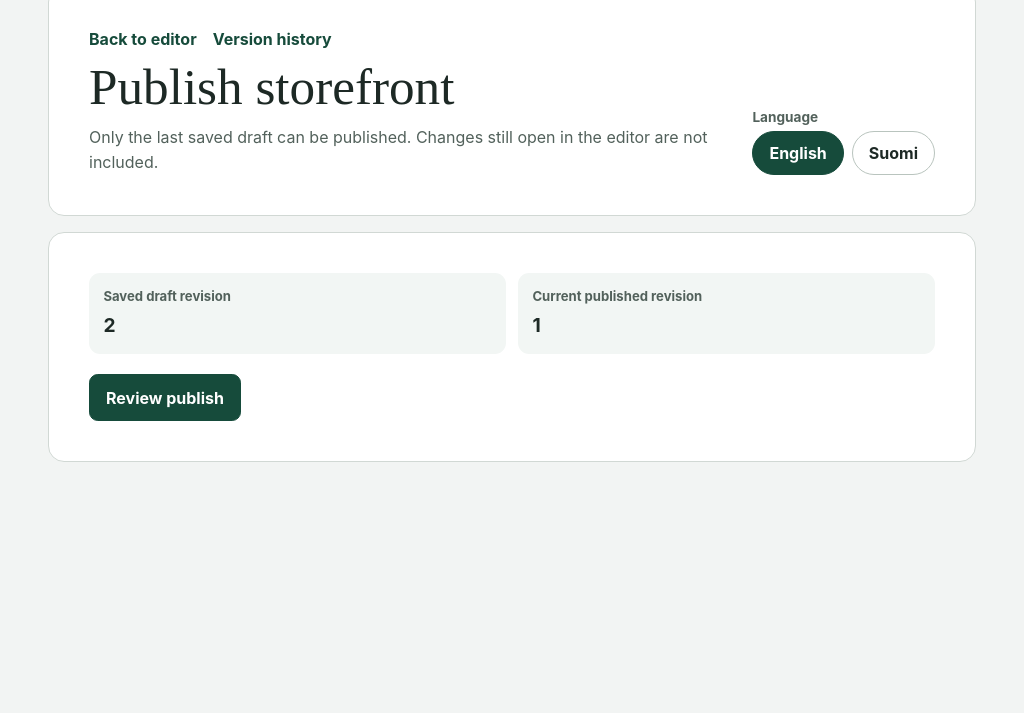
Test case: P2-12 publish confirmation route › publishes the exact reviewed saved draft and exposes success links
This screenshot has width=1024, height=713.
What coordinates should you click on to do the following:
click the button "Review publish"
I would click on:
 (165, 398)
Its box is [89,374,241,421].
(page scrolled)
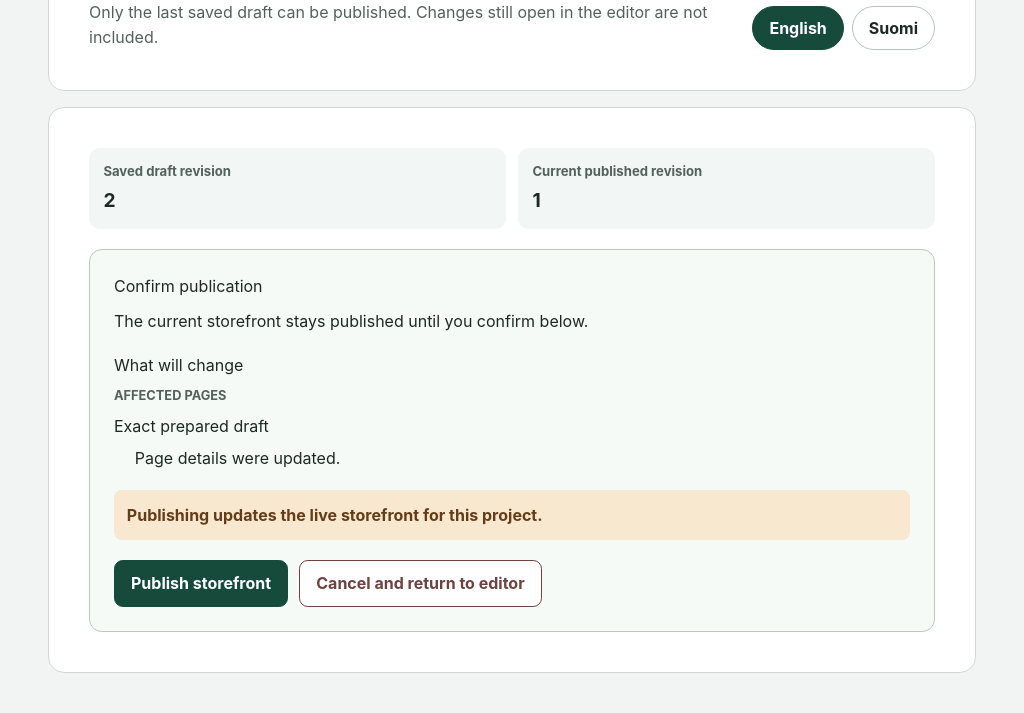
Now the heading "Confirm publication" is shown, box [114,276,263,296]
What coordinates should you click on to do the following:
click the button "Publish storefront"
I would click on:
 (201, 583)
Its box is [114,560,288,607].
(page scrolled)
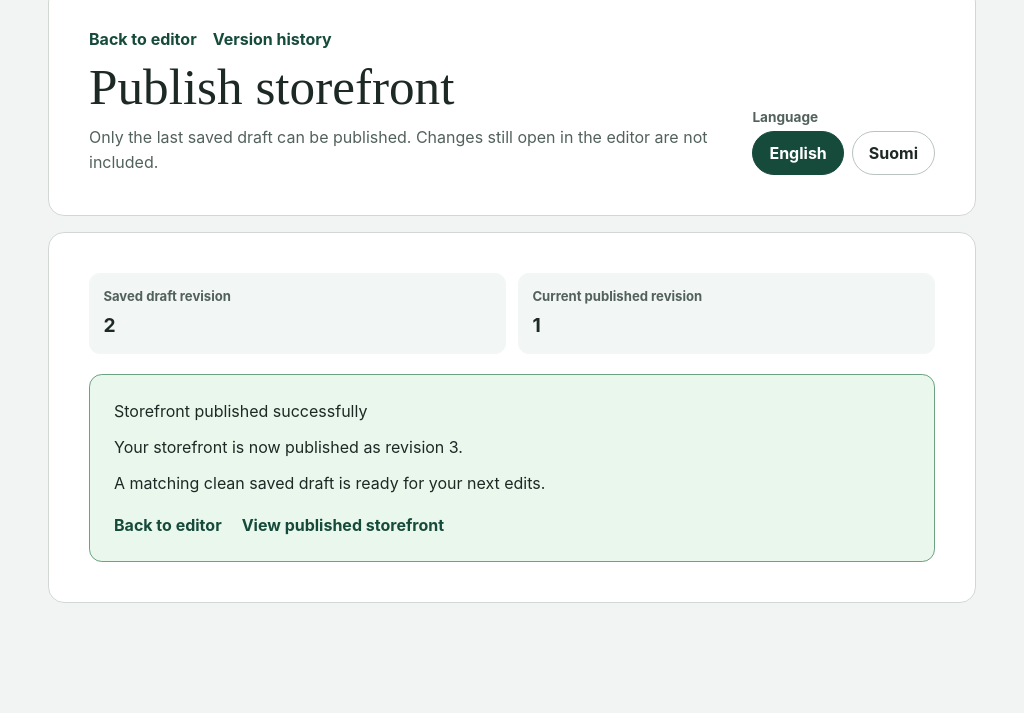
Now the heading "Storefront published successfully" is shown, box [114,401,367,421]
